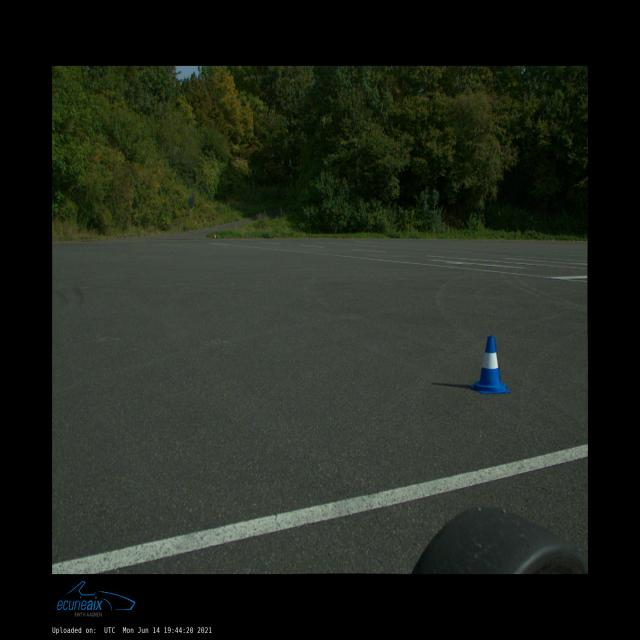blue_cone: (471, 336, 511, 394)
